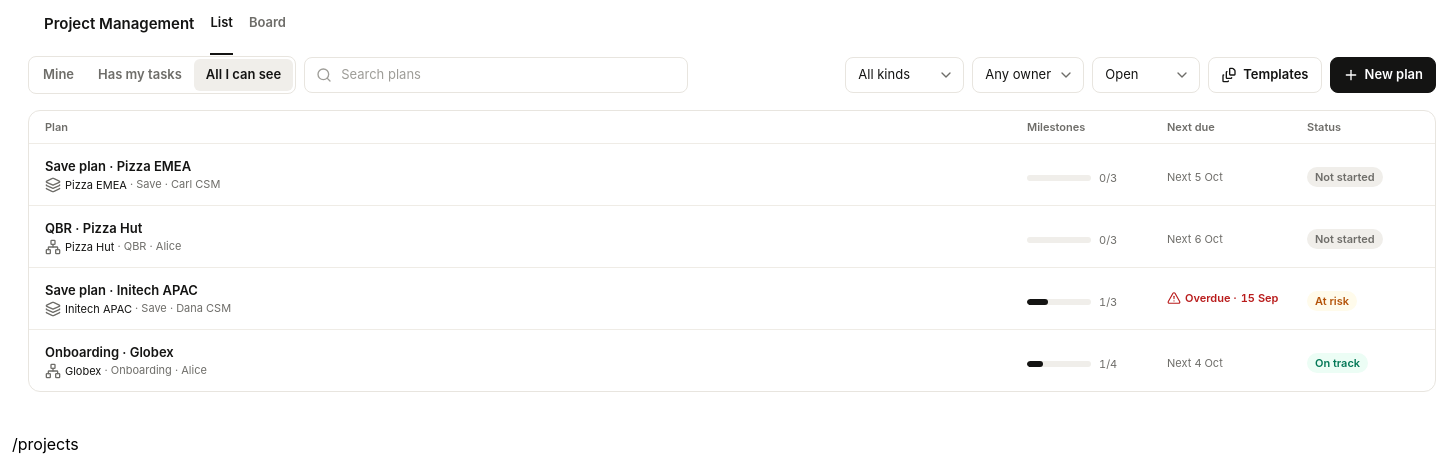
Scenario: /projects: the list (spec §2.1) › keeps a Draft out of Open and shows it under the Draft filter, with its pill and pending tasks
The width and height of the screenshot is (1452, 471).
Select "Draft" in the 3rd dropdown named "Status" at (1146, 75), box [1092,57,1200,93]
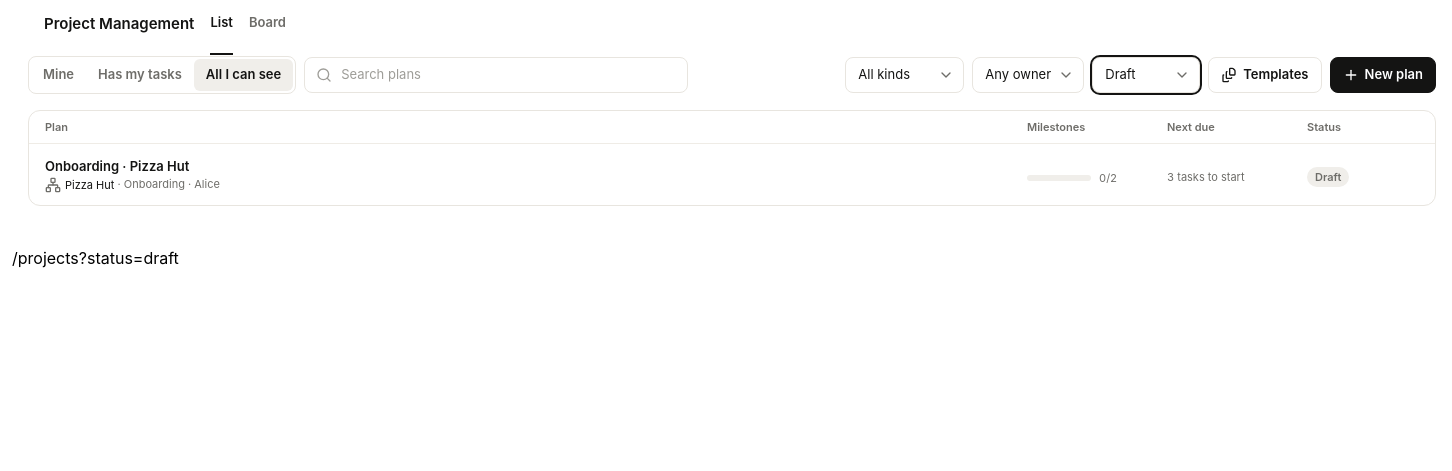
expect the list item does not show "Nothing left to do": met, box [45,158,1349,193]
expect the element showing "Draft" is shown: met, box [1307,166,1349,186]
expect the list item shows "3 tasks to start": met, box [45,158,1349,193]
